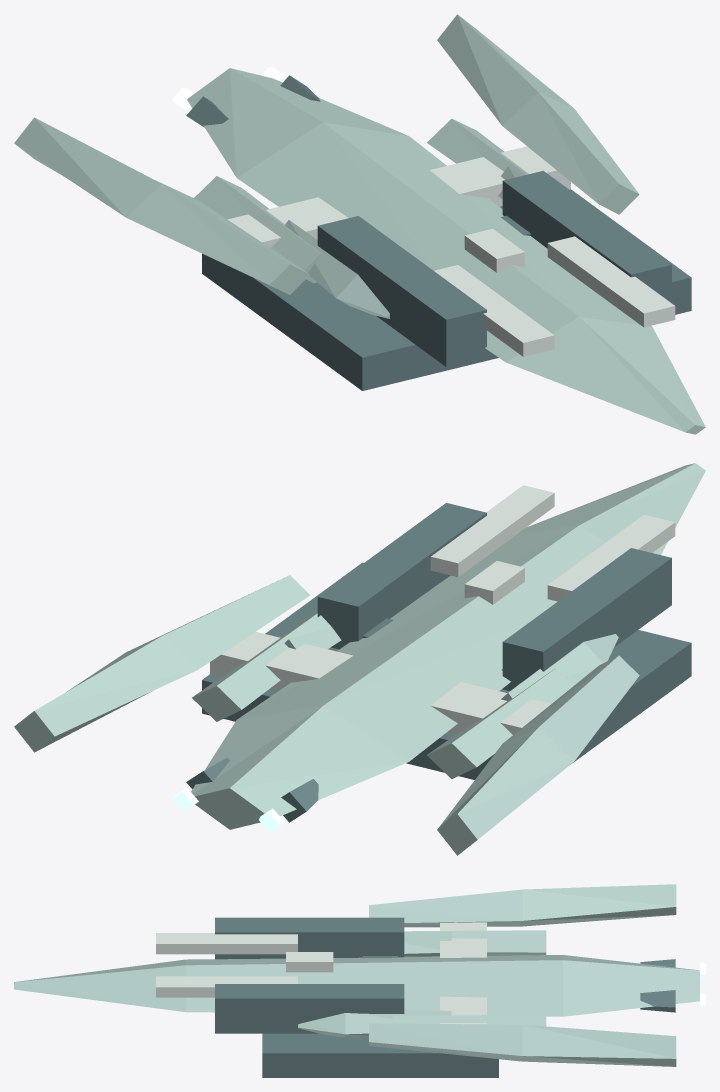
The picture shows the model from 3 angles, top to bottom: view 1: azimuth 30°, elevation 25°; view 2: azimuth 150°, elevation 25°; view 3: azimuth 270°, elevation 25°; orthographic projection. The views are drawn at different scales.
Bounding box in the file's own units: 6.33 × 1.09 × 11.12.
